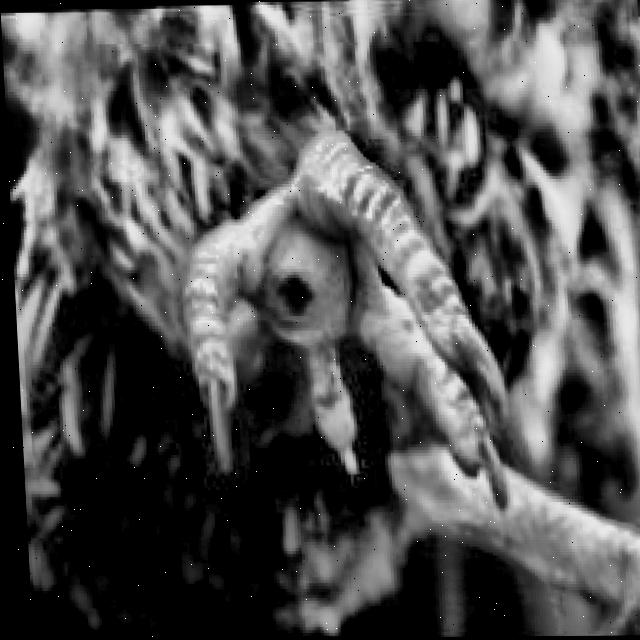Bumble foot: (164, 127, 514, 513)
